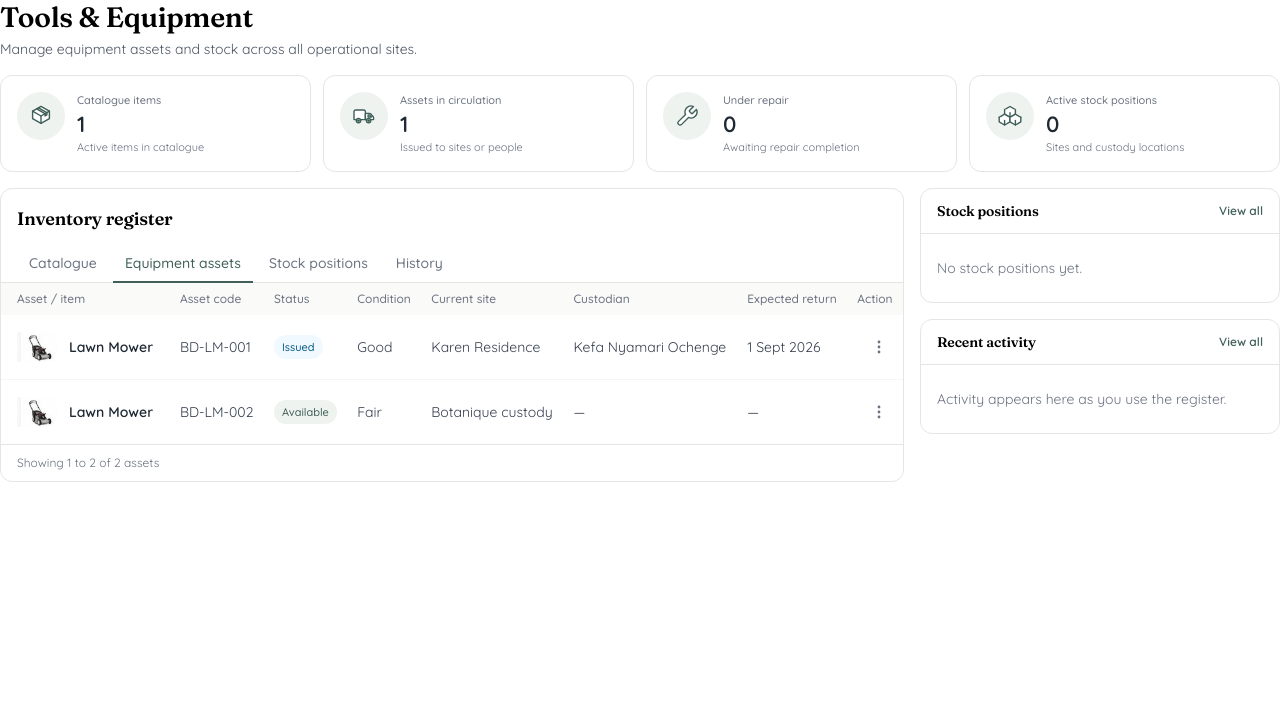
Test case: equipment rows and lifecycle › opens the asset sheet from the ellipsis action
Click the button named "Actions for BD-LM-001".
click(879, 347)  # box x1=863 y1=331 x2=895 y2=363
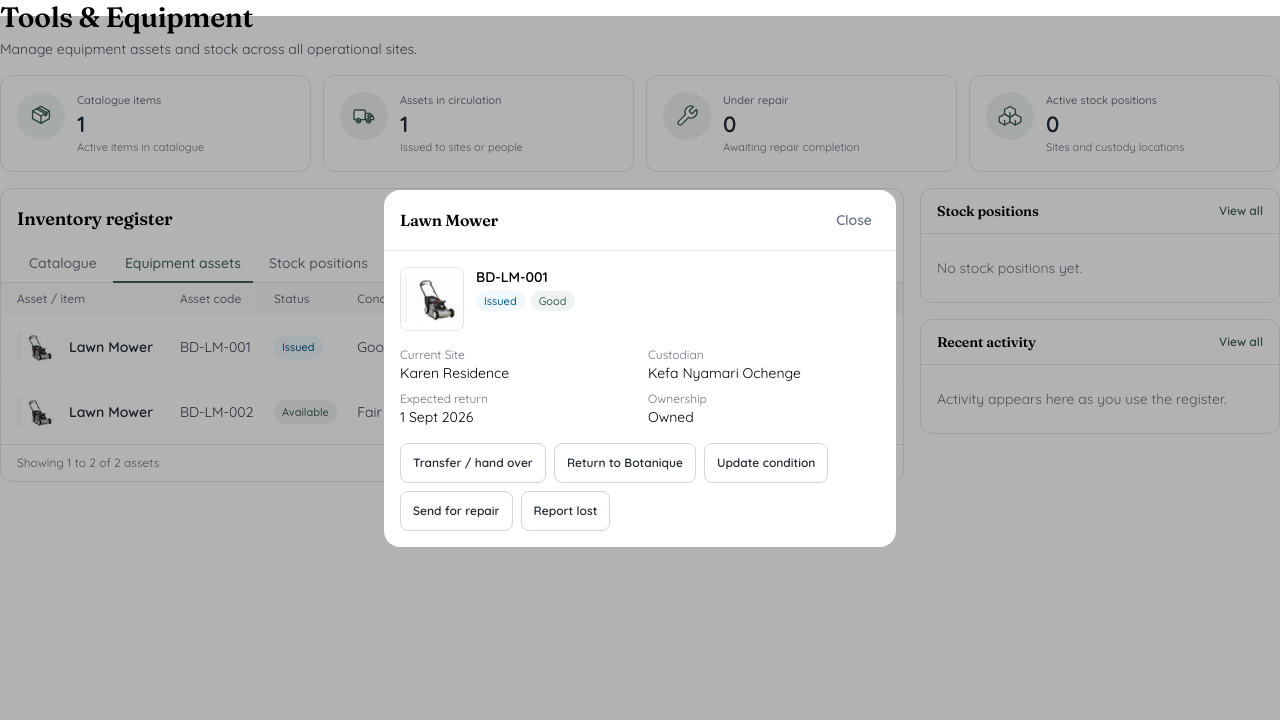
expect the dialog is shown: met, box x1=384 y1=190 x2=896 y2=546
